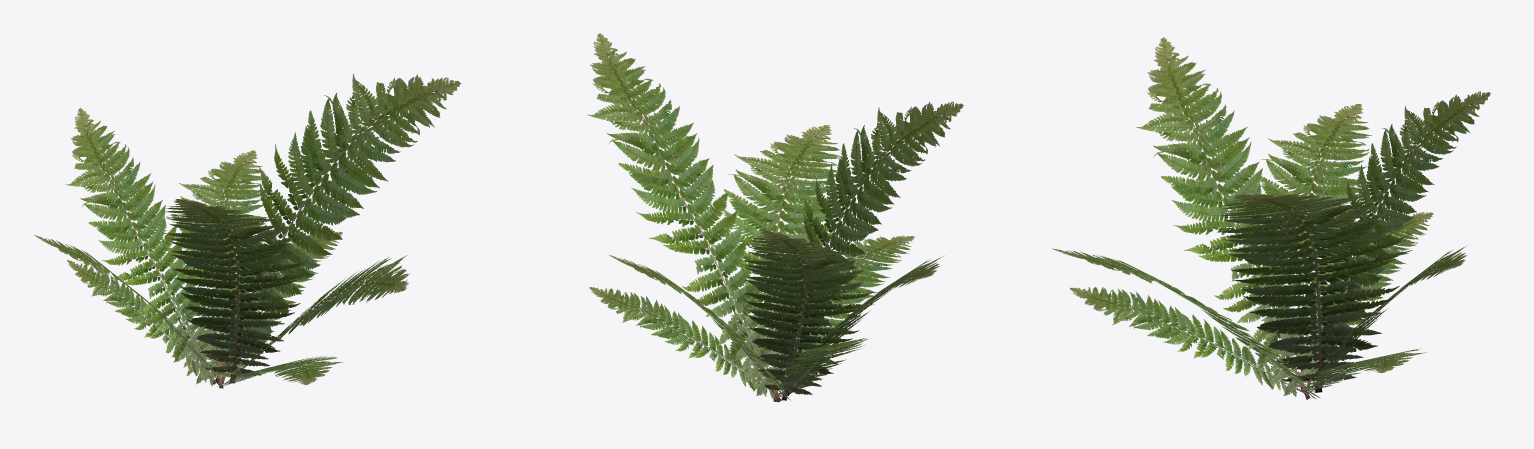
Rendered from Fern1.fbx.
3 renders of one model, left to right at view 1: azimuth 30°, elevation 25°; view 2: azimuth 150°, elevation 25°; view 3: azimuth 270°, elevation 25°, orthographic. The views are drawn at different scales.
Visible parts, largest first — view 1: Fern1; view 2: Fern1; view 3: Fern1.
Part boxes in pixels (left/top/right/bottom): Fern1: left=34, top=74, right=461, bottom=388; Fern1: left=587, top=33, right=963, bottom=402; Fern1: left=1052, top=37, right=1490, bottom=399.
Size of the model in its own units: 137 by 104 by 137.
